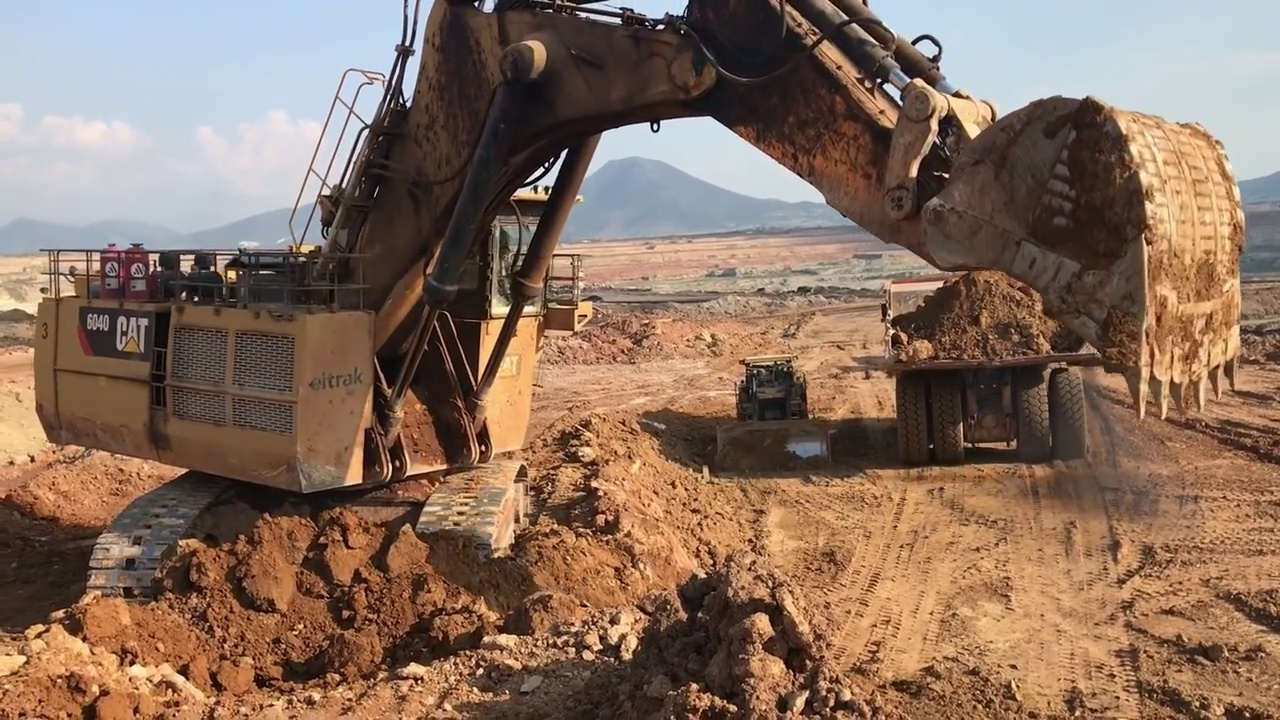dumper: (877, 275, 1093, 457)
excavator: (30, 3, 1246, 628)
